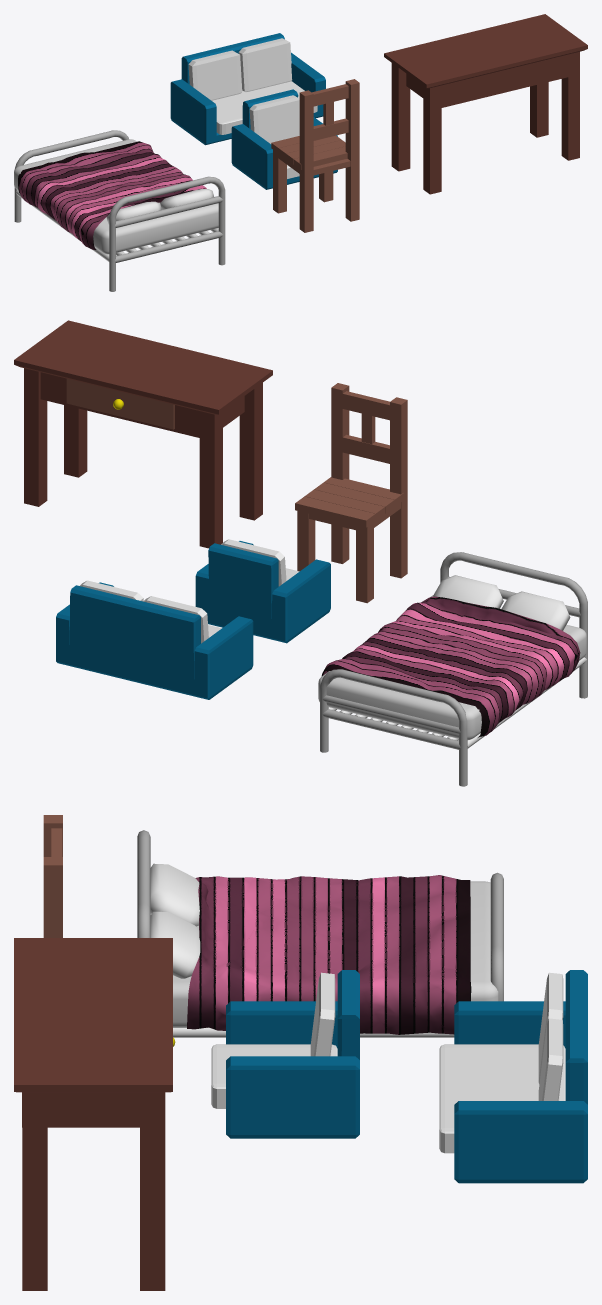
File: Furniture.fbx
3 views of the same model, one above another, from view 1: azimuth 30°, elevation 25°; view 2: azimuth 150°, elevation 25°; view 3: azimuth 270°, elevation 25° (orthographic). The views are drawn at different scales.
Parts seen in each view (by area): view 1: Plane, Cube.004, Cube.001, Cube, Cube.013, Cube.009, Cylinder, Cube.002, Cube.017, Cube.015, Cube.014, Cube.018 (+5 smaller); view 2: Plane, Cube.013, Cube.004, Cube.001, Cube, Cube.017, Cylinder.001, Cube.009, Cube.003, Cylinder, Cube.002, Cube.011 (+4 smaller); view 3: Plane, Cube.001, Cube.013, Cube.017, Cube, Cube.012, Cube.009, Cube.002, Cube.004, Cube.011, Cube.016, Cube.010 (+6 smaller).
Boxes of the visible parts, x1=… form: Plane: x1=18, y1=141, x2=206, y2=249; Cube.004: x1=271, y1=79, x2=359, y2=232; Cube.001: x1=384, y1=14, x2=587, y2=88; Cube: x1=391, y1=51, x2=579, y2=194; Cube.013: x1=170, y1=33, x2=325, y2=145; Cube.009: x1=14, y1=139, x2=218, y2=254; Cylinder: x1=109, y1=176, x2=225, y2=291; Cube.002: x1=406, y1=53, x2=572, y2=108; Cube.017: x1=231, y1=89, x2=337, y2=189; Cube.015: x1=238, y1=38, x2=292, y2=91; Cube.014: x1=188, y1=50, x2=242, y2=100; Cube.018: x1=249, y1=95, x2=299, y2=143; Plane: x1=321, y1=596, x2=580, y2=737; Cube.013: x1=56, y1=582, x2=253, y2=699; Cube.004: x1=295, y1=383, x2=407, y2=603; Cube.001: x1=14, y1=320, x2=272, y2=414; Cube: x1=24, y1=368, x2=262, y2=548; Cube.017: x1=195, y1=541, x2=330, y2=643; Cylinder.001: x1=320, y1=669, x2=467, y2=786; Cube.009: x1=318, y1=595, x2=586, y2=739; Cube.003: x1=66, y1=378, x2=174, y2=429; Cylinder: x1=440, y1=552, x2=587, y2=698; Cube.002: x1=40, y1=372, x2=244, y2=437; Cube.011: x1=501, y1=591, x2=570, y2=630; Plane: x1=187, y1=875, x2=471, y2=1034; Cube.001: x1=14, y1=938, x2=172, y2=1092; Cube.013: x1=454, y1=970, x2=587, y2=1183; Cube.017: x1=226, y1=970, x2=359, y2=1138; Cube: x1=22, y1=1092, x2=165, y2=1290; Cube.012: x1=439, y1=1044, x2=565, y2=1153; Cube.009: x1=173, y1=881, x2=498, y2=1027; Cube.002: x1=22, y1=1092, x2=139, y2=1127; Cube.004: x1=43, y1=815, x2=62, y2=937; Cube.011: x1=150, y1=863, x2=199, y2=926; Cube.016: x1=211, y1=1044, x2=337, y2=1108; Cube.010: x1=150, y1=911, x2=200, y2=978.
Bounding box in the file's own units: 5896 × 2159 × 3466.
